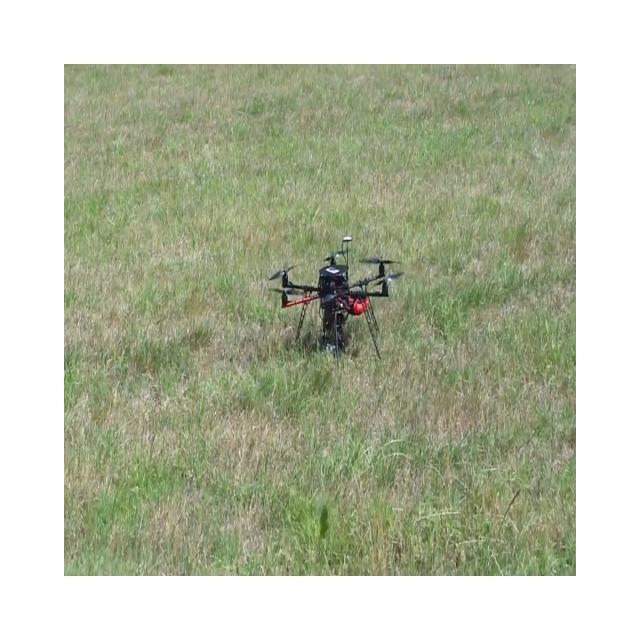drone: (267, 234, 404, 360)
